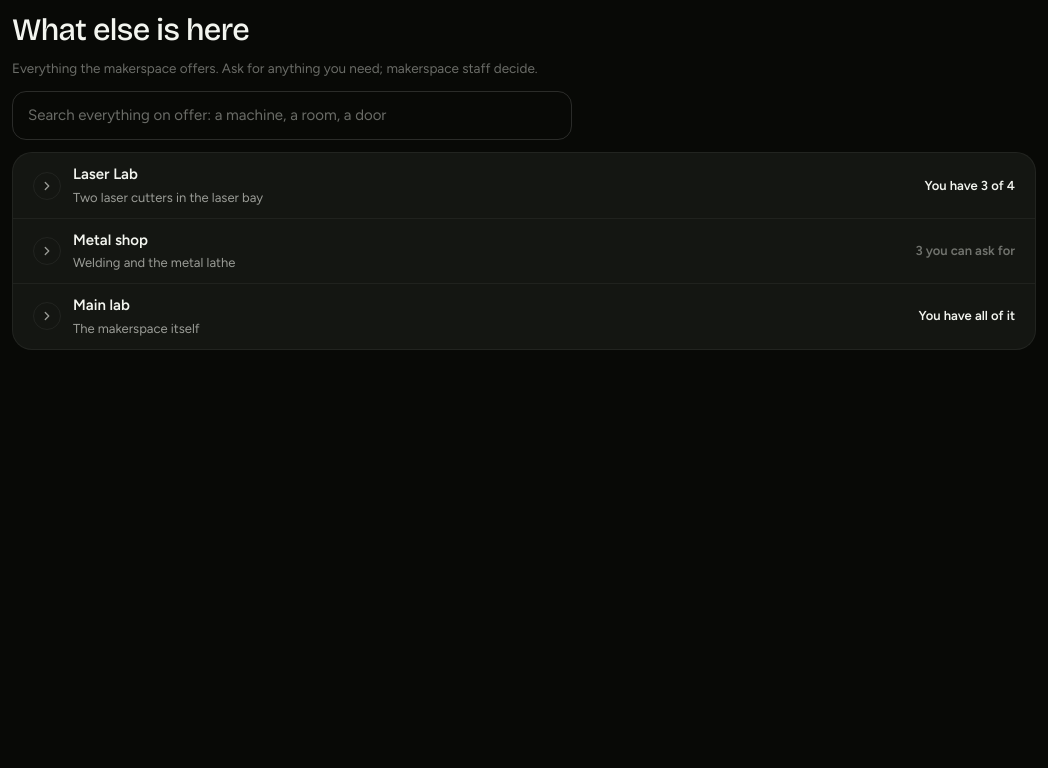
Test: MemberCatalog search › opens the room at the welder and folds the rest with No match
This screenshot has width=1048, height=768.
Click the button "Laser Lab": x=105, y=174 [13, 154, 1035, 218]
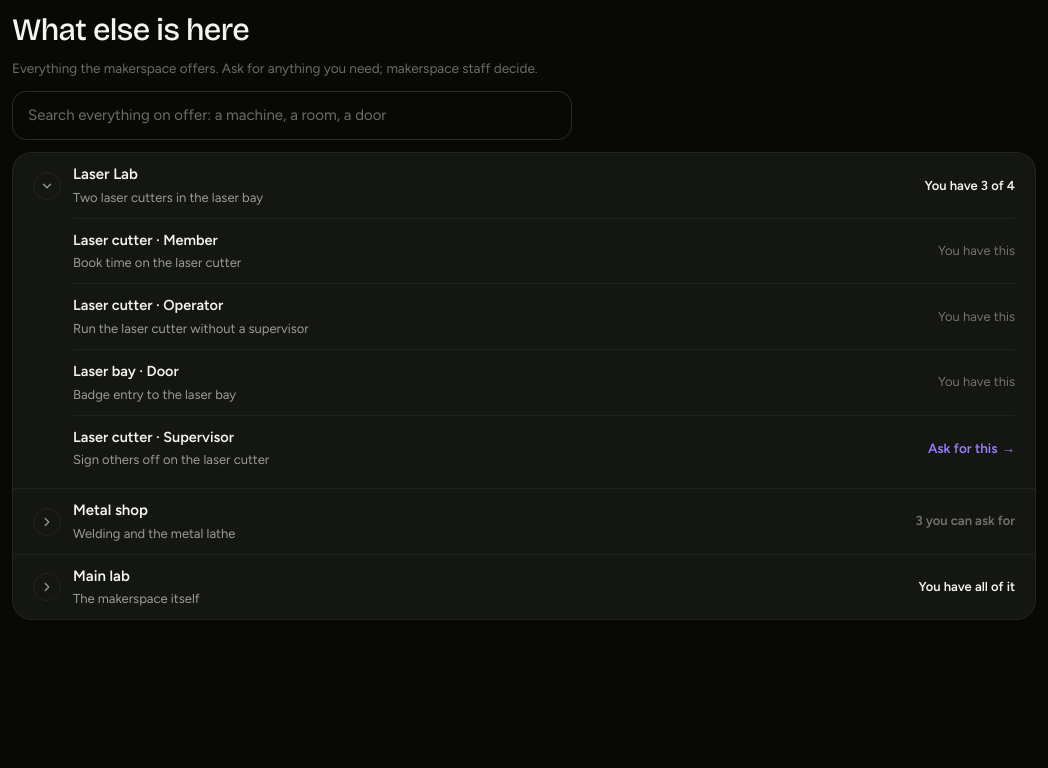
In the search field labelled "Search everything on offer": x=292, y=116 [12, 91, 572, 140], type "weld"
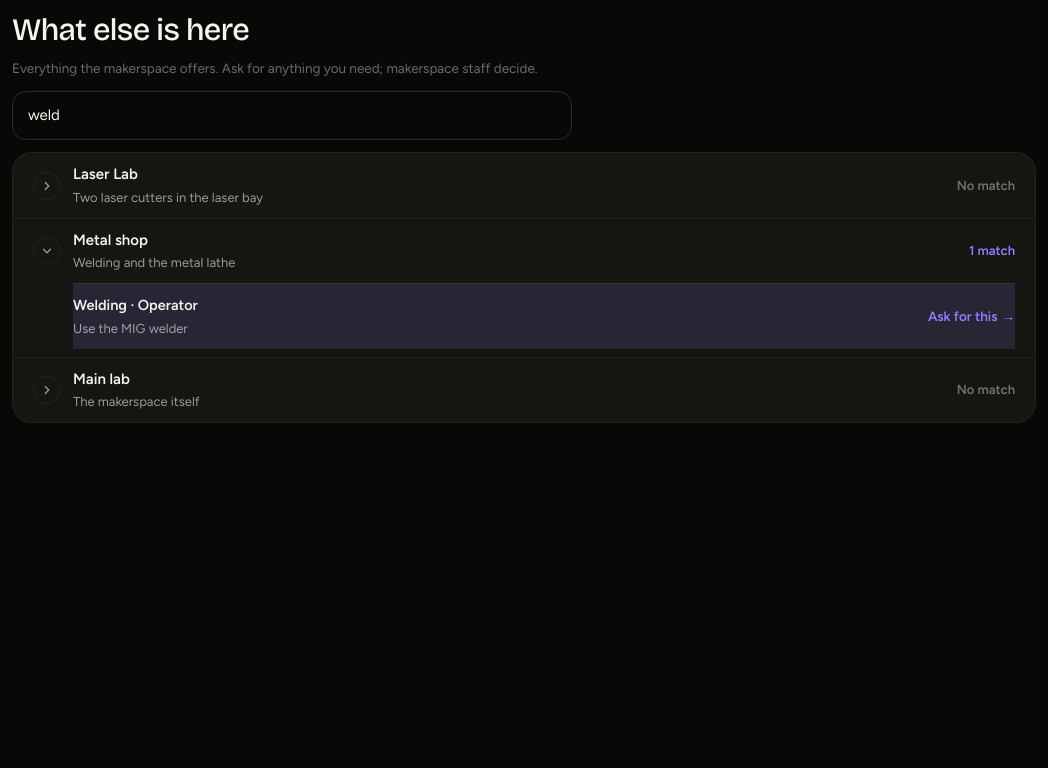
Expected: the button "Metal shop" is expanded, [13, 219, 1035, 283]
Expected: the button "Metal shop" shows "1 match", [13, 219, 1035, 283]
Expected: the button "Laser Lab" is collapsed, [13, 154, 1035, 218]
